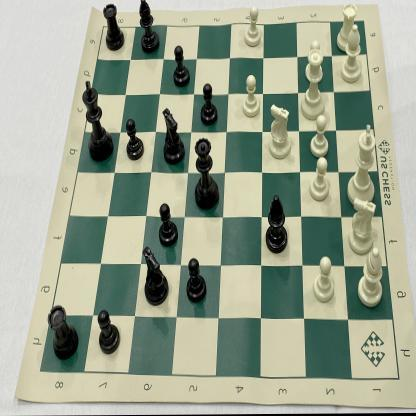black-bishop: (265, 192, 291, 256), (136, 0, 160, 57)
black-king: (81, 79, 116, 164)
black-knight: (140, 242, 170, 310), (162, 104, 186, 167)
black-pawn: (95, 305, 122, 359), (184, 254, 209, 304), (124, 115, 147, 165), (156, 202, 180, 249), (199, 80, 220, 131), (172, 43, 192, 89)
black-queen: (192, 133, 220, 214)
black-rook: (46, 302, 81, 363), (101, 0, 125, 55)
white-bishop: (356, 246, 385, 307), (339, 24, 364, 85)
white-king: (346, 121, 378, 207)
white-knight: (347, 196, 378, 258), (268, 103, 294, 164)
white-pawn: (311, 255, 336, 306), (309, 157, 332, 205), (303, 39, 325, 83), (242, 5, 264, 49), (241, 75, 261, 121), (310, 114, 330, 160)
white-queen: (298, 50, 330, 121)
white-rook: (335, 0, 359, 54)
